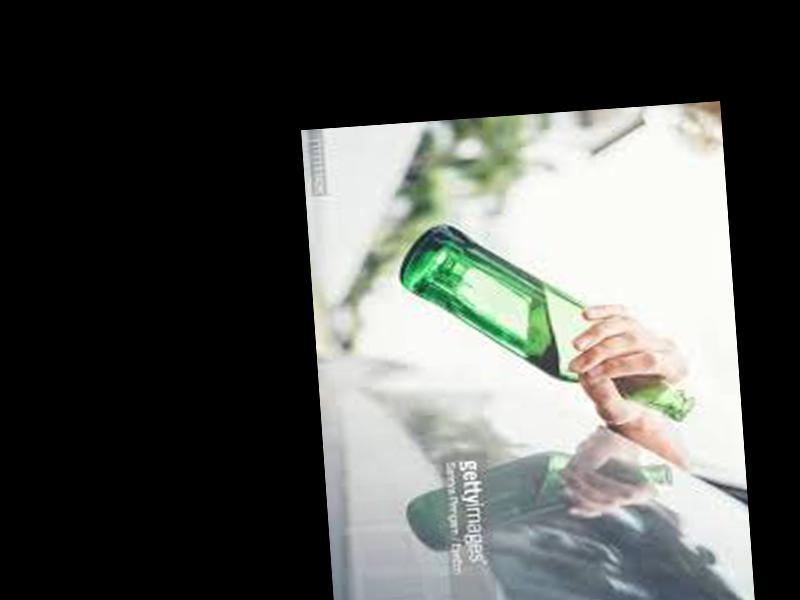Beer: (397, 208, 691, 443)
